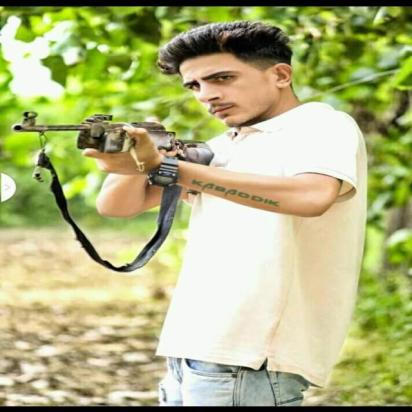Gun: (9, 109, 216, 168)
